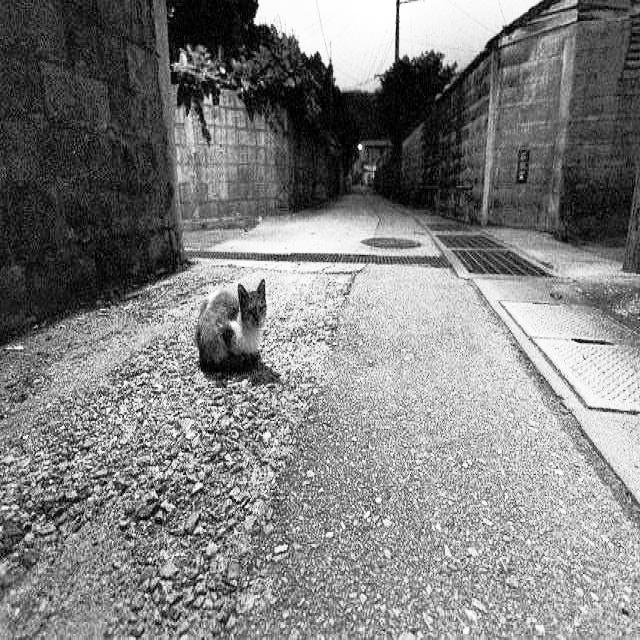Cat: (195, 279, 273, 383)
